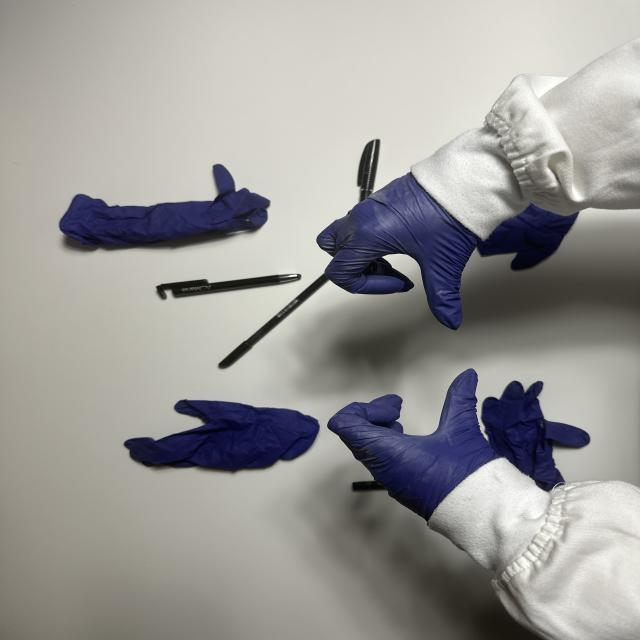gloves_contaminated: (328, 369, 497, 521), (318, 174, 478, 329)
